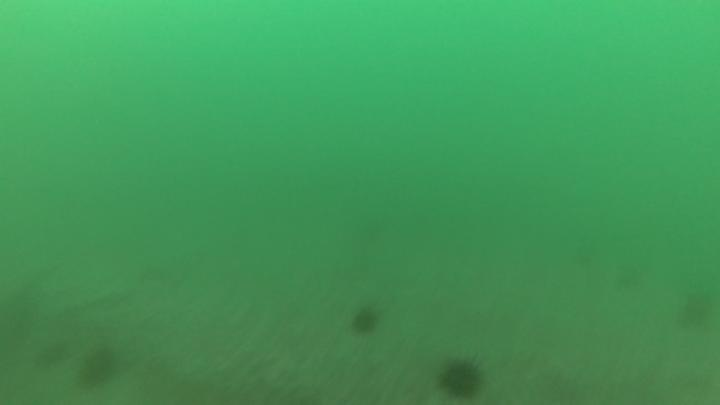echinus: (435, 354, 487, 402), (75, 343, 121, 391), (673, 285, 718, 334), (31, 337, 72, 372), (348, 303, 383, 339)
